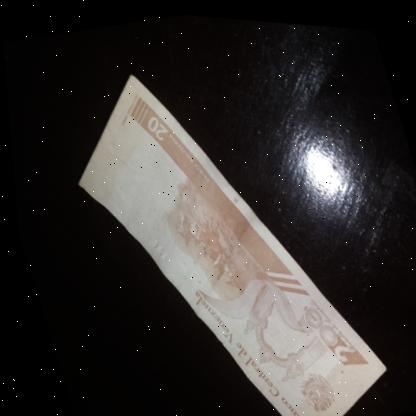twenty-back-vef: (42, 29, 396, 416)
